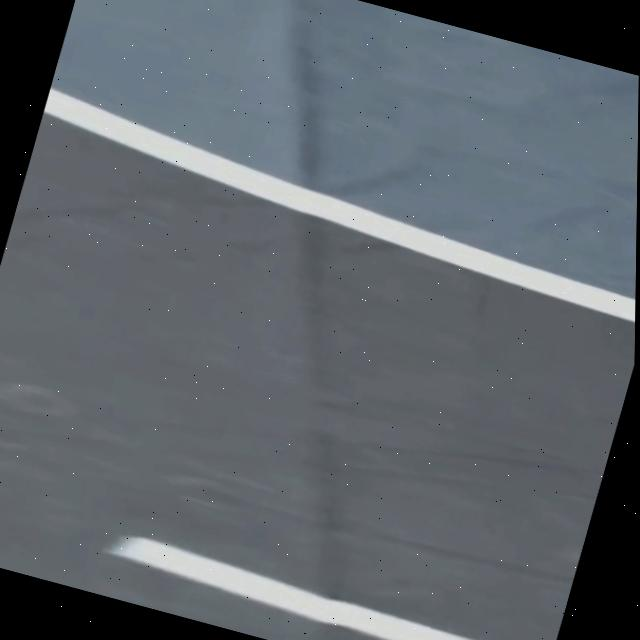center: (108, 535, 479, 640)
left: (43, 85, 636, 320)
